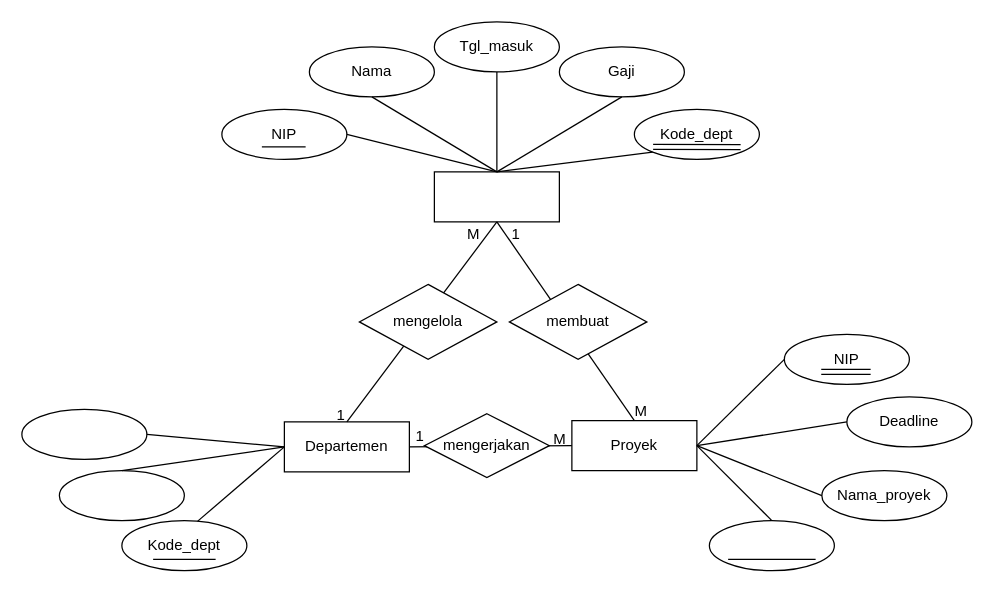
This 994x593 diagram has some shape labels left out. The centre of each missing label's shape, as x and y in pixels:
Karyawan: the point at 496,196
Kode_proyek: the point at 771,545
Lokasi: the point at 84,433
Nama_dept: the point at 121,495
